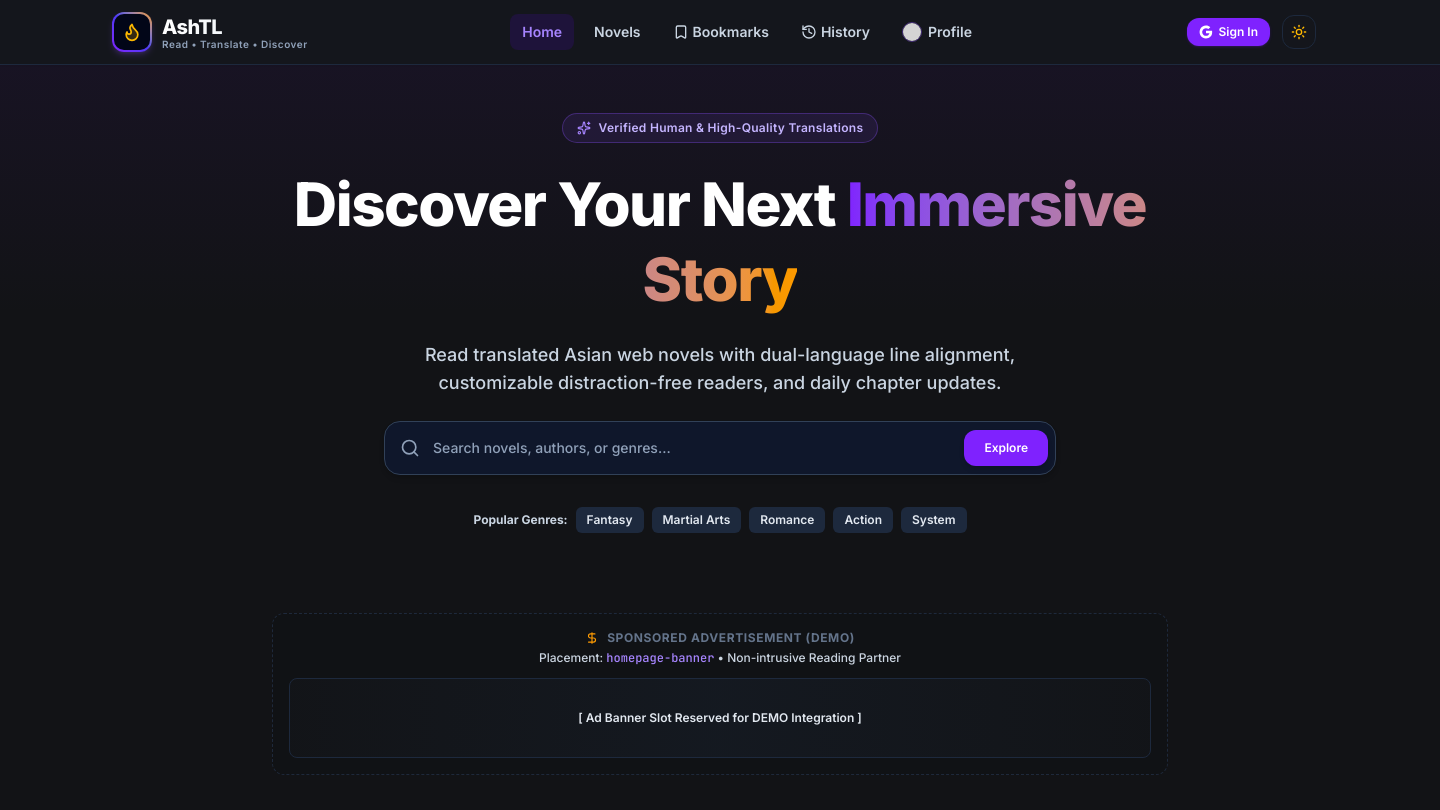
AshTL Application Core Workflows & Admin Security › provides Google sign-in options on the public header and profile view for unauthenticated visitors
The image size is (1440, 810).
Expected: the button "Sign In" is shown, [1186, 18, 1270, 46]
// Navigate to profile
Click the button "Profile".
click(937, 32)  # box [890, 14, 984, 50]
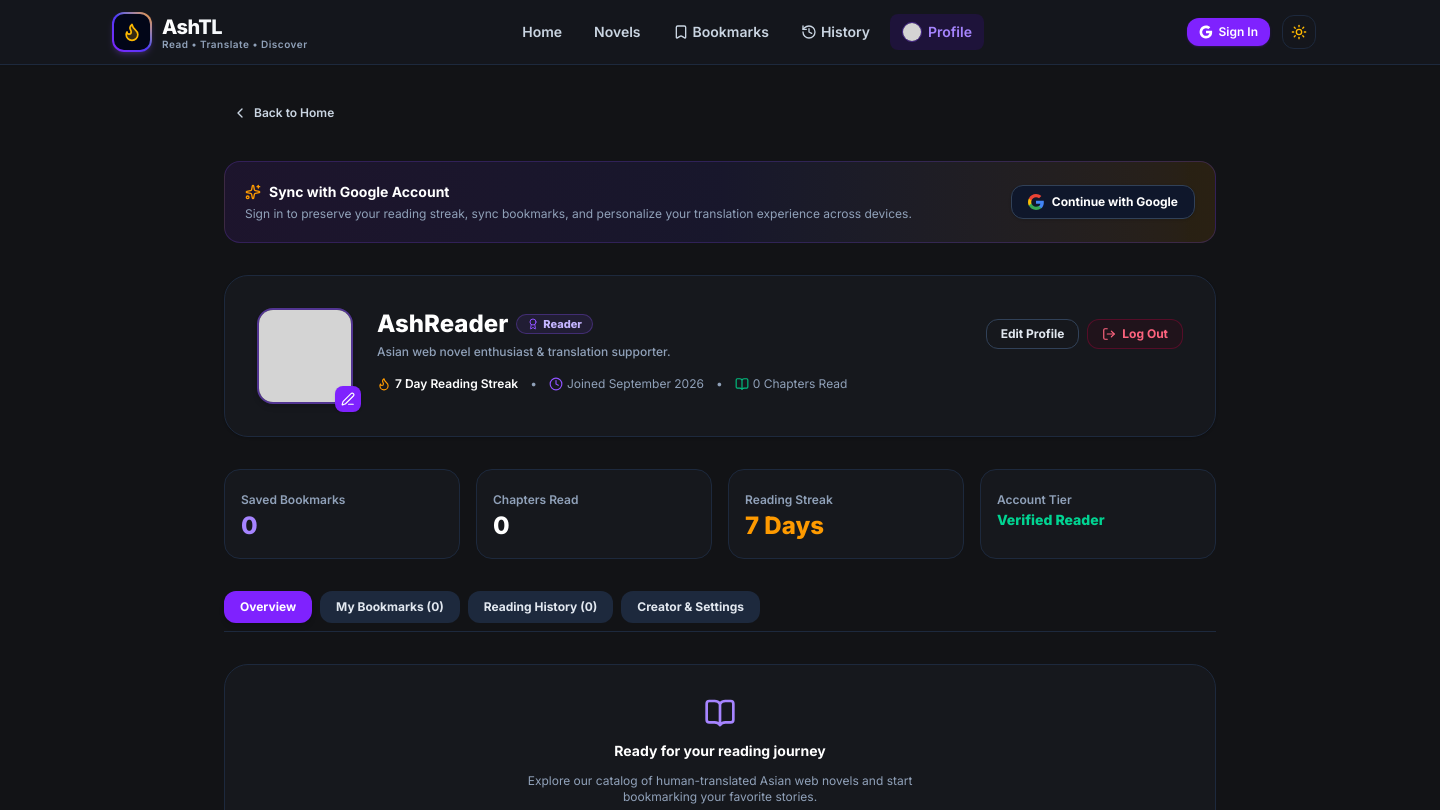
Result: the text "Sync with Google Account" is shown at [269, 182, 450, 202]
Result: the button "Continue with Google" is shown at [1011, 185, 1195, 219]
